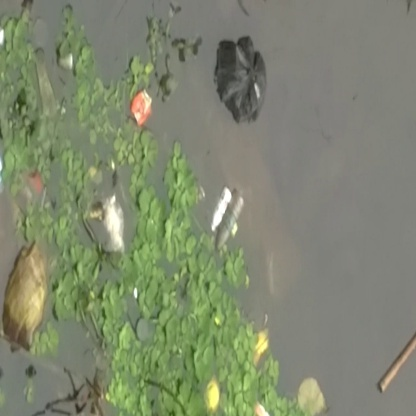plastic-bag: (211, 35, 277, 127), (3, 248, 49, 362)
